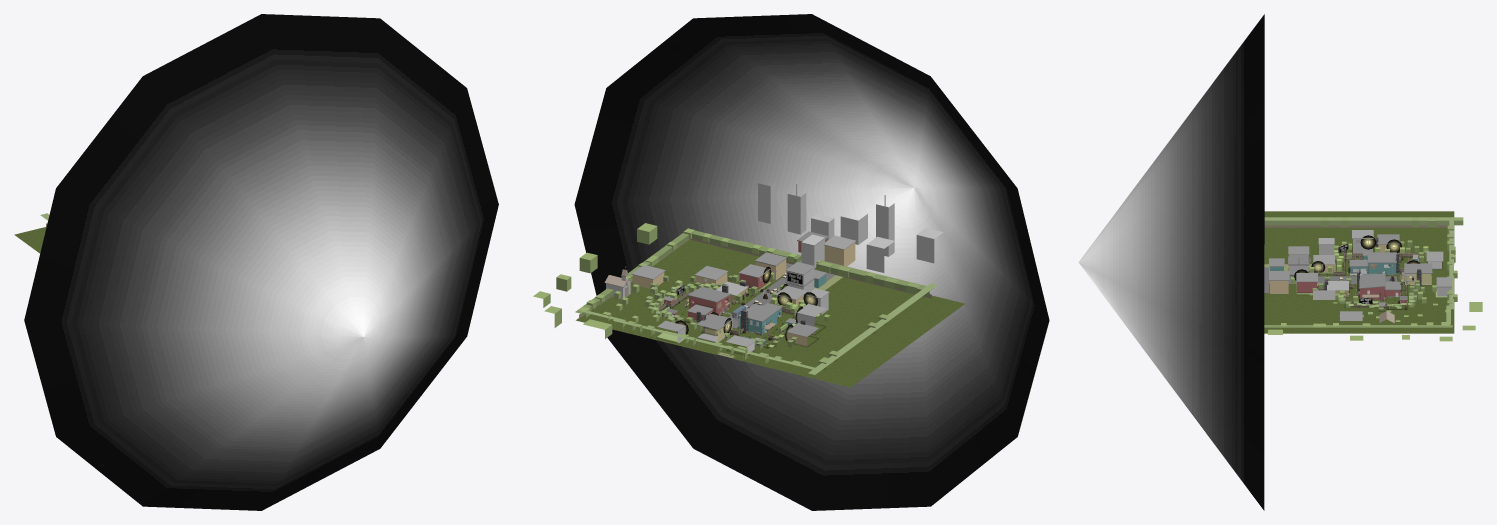
File: Newtown.gltf
The picture shows the model from 3 angles, left to right: view 1: azimuth 30°, elevation 25°; view 2: azimuth 150°, elevation 25°; view 3: azimuth 270°, elevation 25°; orthographic projection. The views are drawn at different scales.
Parts seen in each view (by area): view 1: mesh_23; view 2: mesh_23, mesh_2, mesh_21; view 3: mesh_23, mesh_2, mesh_21, mesh_5.
Part boxes in pixels (<box>): mesh_23: <box>24,14,498,510</box>; mesh_23: <box>574,14,1049,510</box>; mesh_2: <box>533,182,943,374</box>; mesh_21: <box>576,239,964,387</box>; mesh_23: <box>1078,14,1401,510</box>; mesh_2: <box>1264,217,1482,341</box>; mesh_21: <box>1264,211,1454,333</box>; mesh_5: <box>1317,243,1418,307</box>.
Bounding box in the file's own units: 2898 × 2898 × 2347.
Materials: 26 (23 with a texture image).
